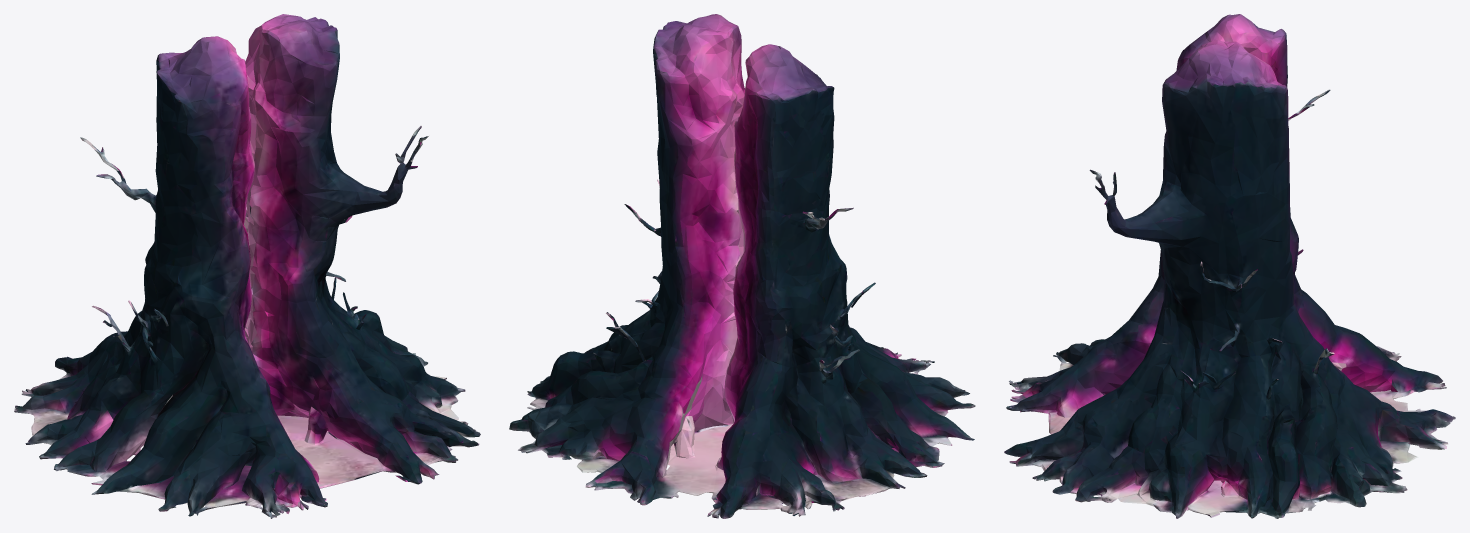
The model's file is root-southwest-generated-2026-04-19T17-19-22-220Z.low.glb.
3 renders of one model, left to right at view 1: azimuth 30°, elevation 25°; view 2: azimuth 150°, elevation 25°; view 3: azimuth 270°, elevation 25°, orthographic.
Visible parts, largest first — view 1: temp_mesh.ply; view 2: temp_mesh.ply; view 3: temp_mesh.ply.
Part boxes in pixels (bbox=[...]): temp_mesh.ply: bbox=[14, 14, 480, 518]; temp_mesh.ply: bbox=[509, 14, 975, 518]; temp_mesh.ply: bbox=[1004, 14, 1455, 518].
Size of the model in its own units: 1.97 by 1.9 by 1.95.
Materials: 1 (1 with a texture image).
